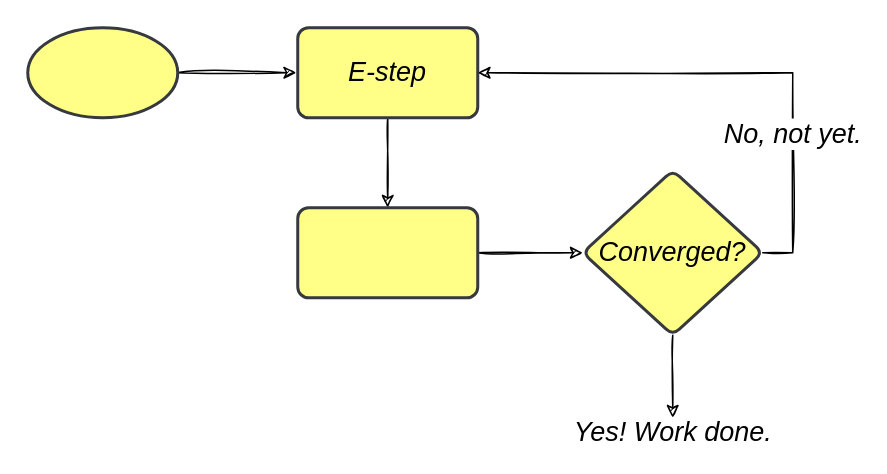
This 887x474 diagram has some shape labels left out. The shapes that lost their labels are listed below. From the top down, each one's centre as x and y in pixels, then its label:
At pixel 102 72: "Initialize".
At pixel 387 252: "M-step".
